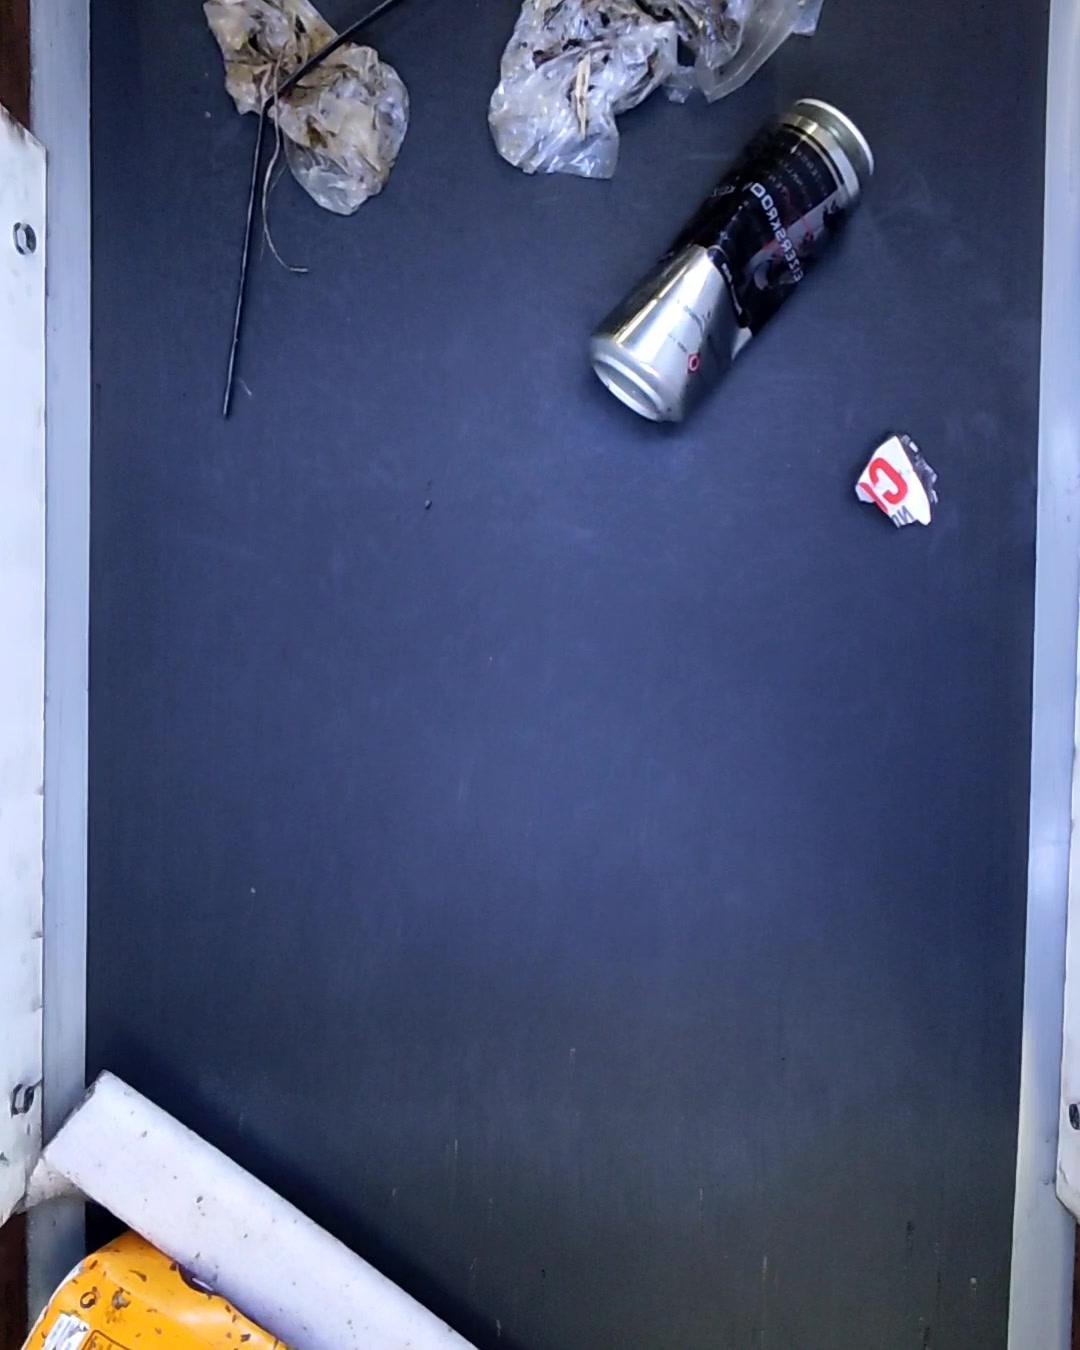Drankblikjes: (575, 98, 872, 440)
Plastic folies of stukken daarvan 2.5- 50 cm: (479, 0, 818, 186), (204, 0, 410, 218)
Snoep snack en chips verpakkingen: (846, 425, 939, 537)
